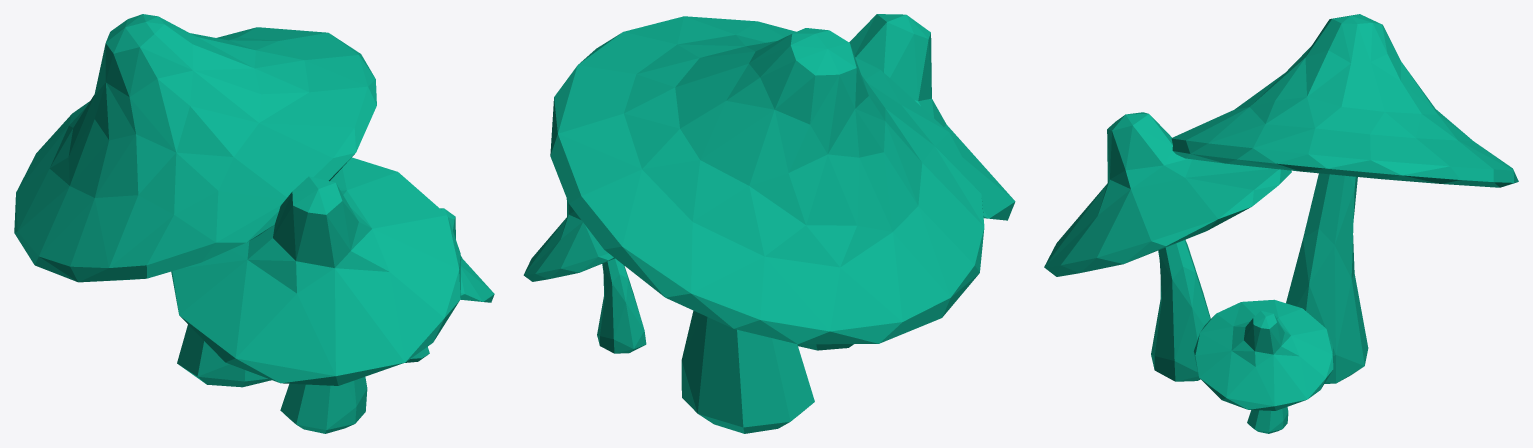
The picture shows the model from 3 angles, left to right: view 1: azimuth 30°, elevation 25°; view 2: azimuth 150°, elevation 25°; view 3: azimuth 270°, elevation 25°; orthographic projection. The views are drawn at different scales.
Visible parts, largest first — view 1: 2; view 2: 2; view 3: 2.
Part boxes in pixels (bbox=[...]): 2: bbox=[14, 14, 494, 433]; 2: bbox=[523, 14, 1015, 433]; 2: bbox=[1044, 14, 1518, 433].
Size of the model in its own units: 7.01 by 6.05 by 8.05.
